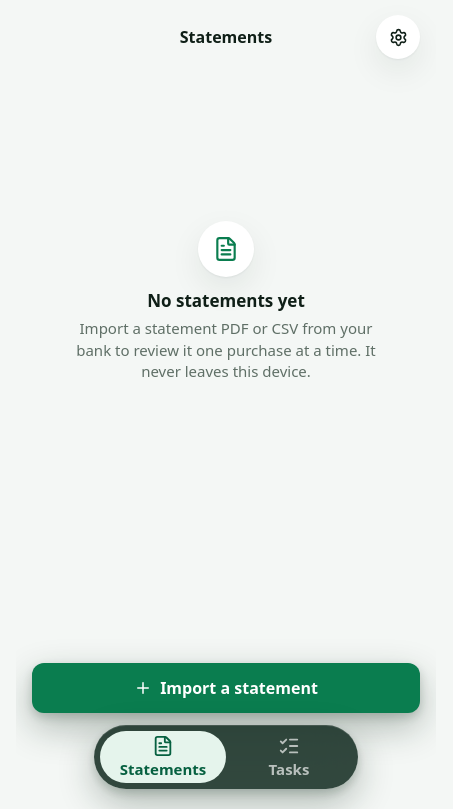
App › starts on an empty Statements screen that says how to begin
Expected: the heading "No statements yet" is shown, [147,289,305,312]
Click the button "Import a statement": [226, 688] box [32,663,420,713]
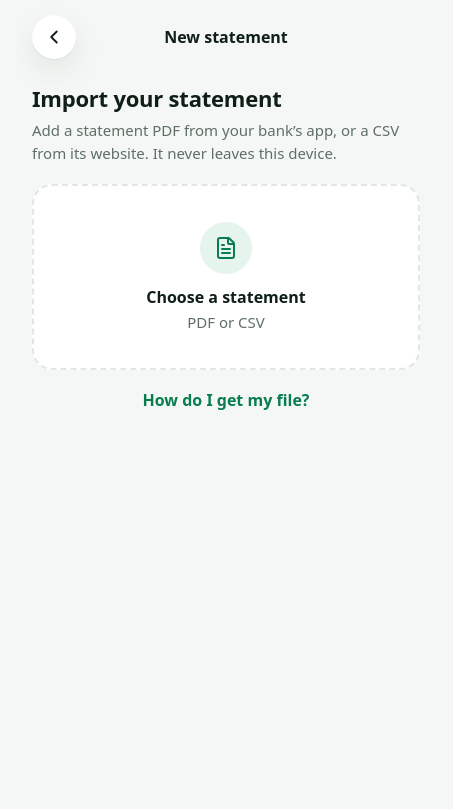
Expected: the heading "Import your statement" is shown, [32,83,282,113]
